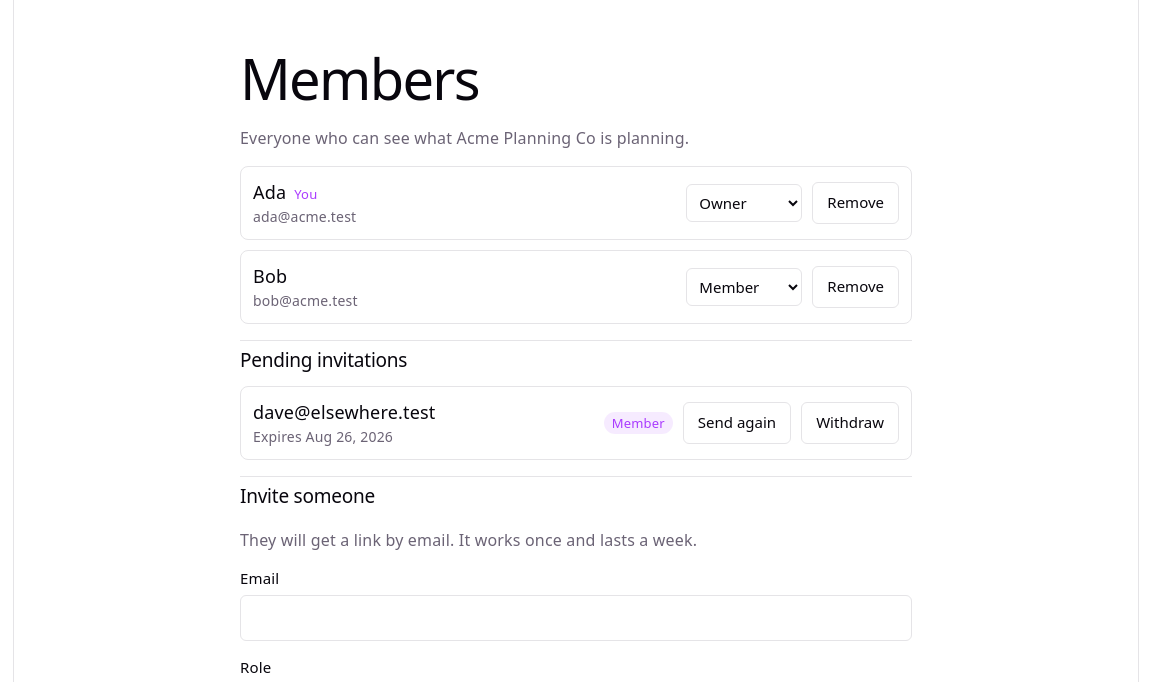
Scenario: MembersPage › sends an invitation and says where it went
Expected: the text "Ada" is shown, [253,180,286,204]
Type "dave@elsewhere.test" into the field labelled "Email". click: (576, 618)
box: [240,595,912,641]
(page scrolled)
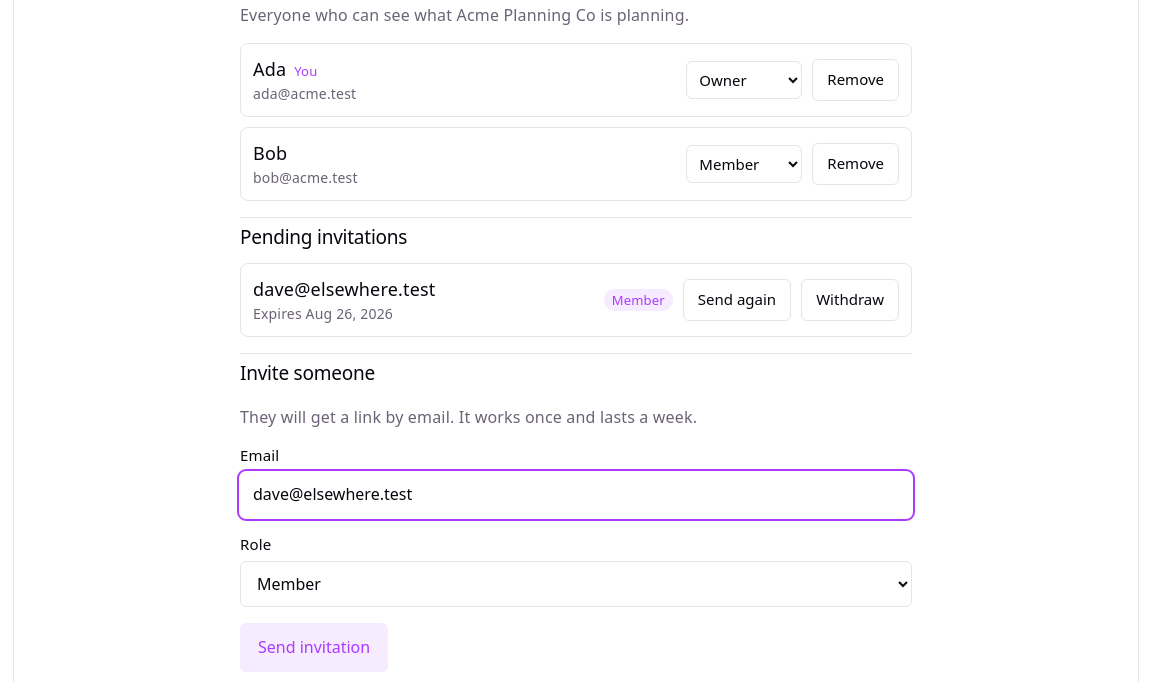
Select "Owner" in the dropdown labelled "Role". click: (576, 584)
box: [240,561,912,607]
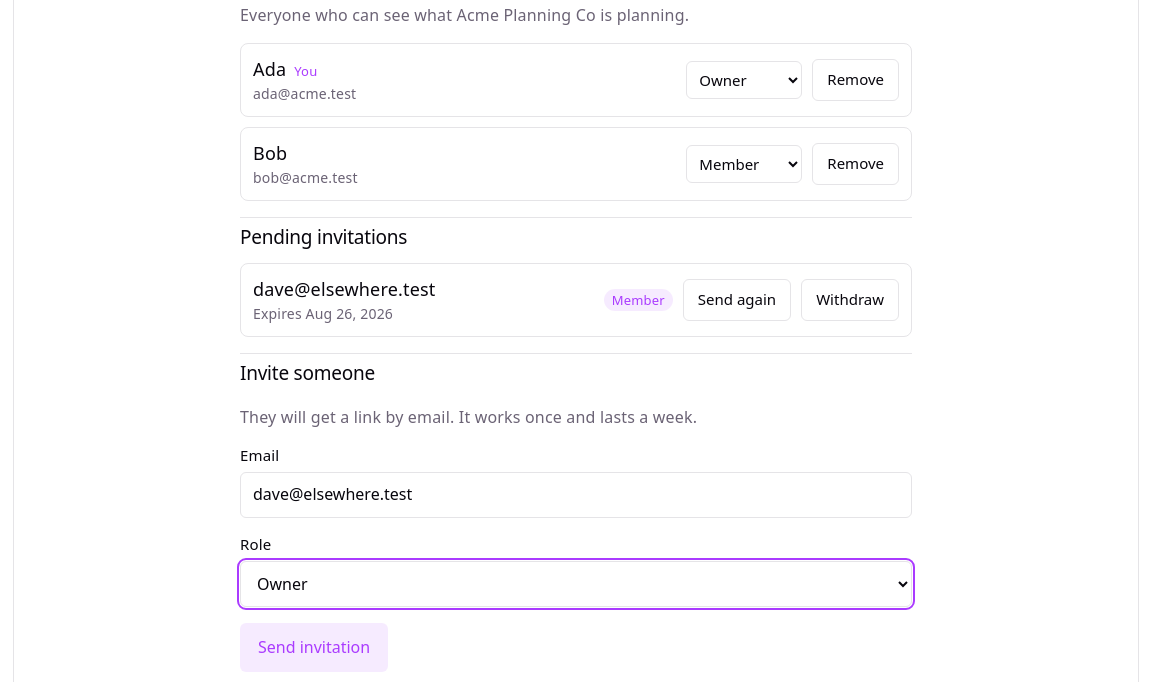
Click the button "Send invitation". click: (314, 648)
box: [240,623,388,672]
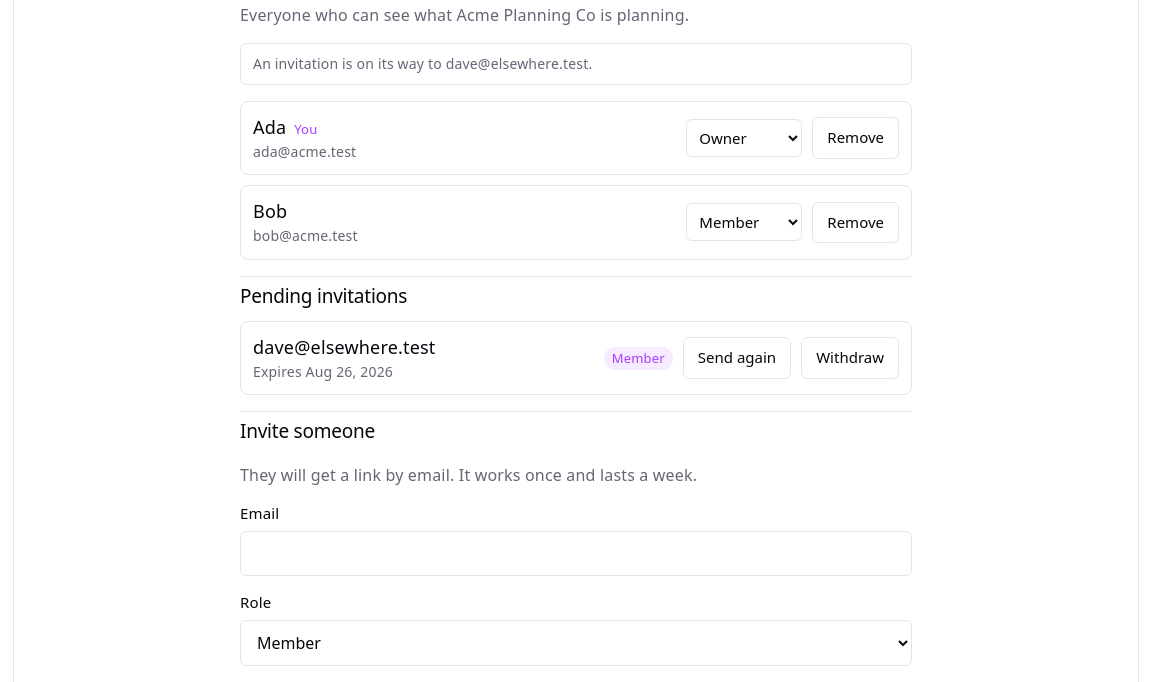
Expected: the message reads "An invitation is on its way to dave@elsewhere.test.", [253,54,592,73]
